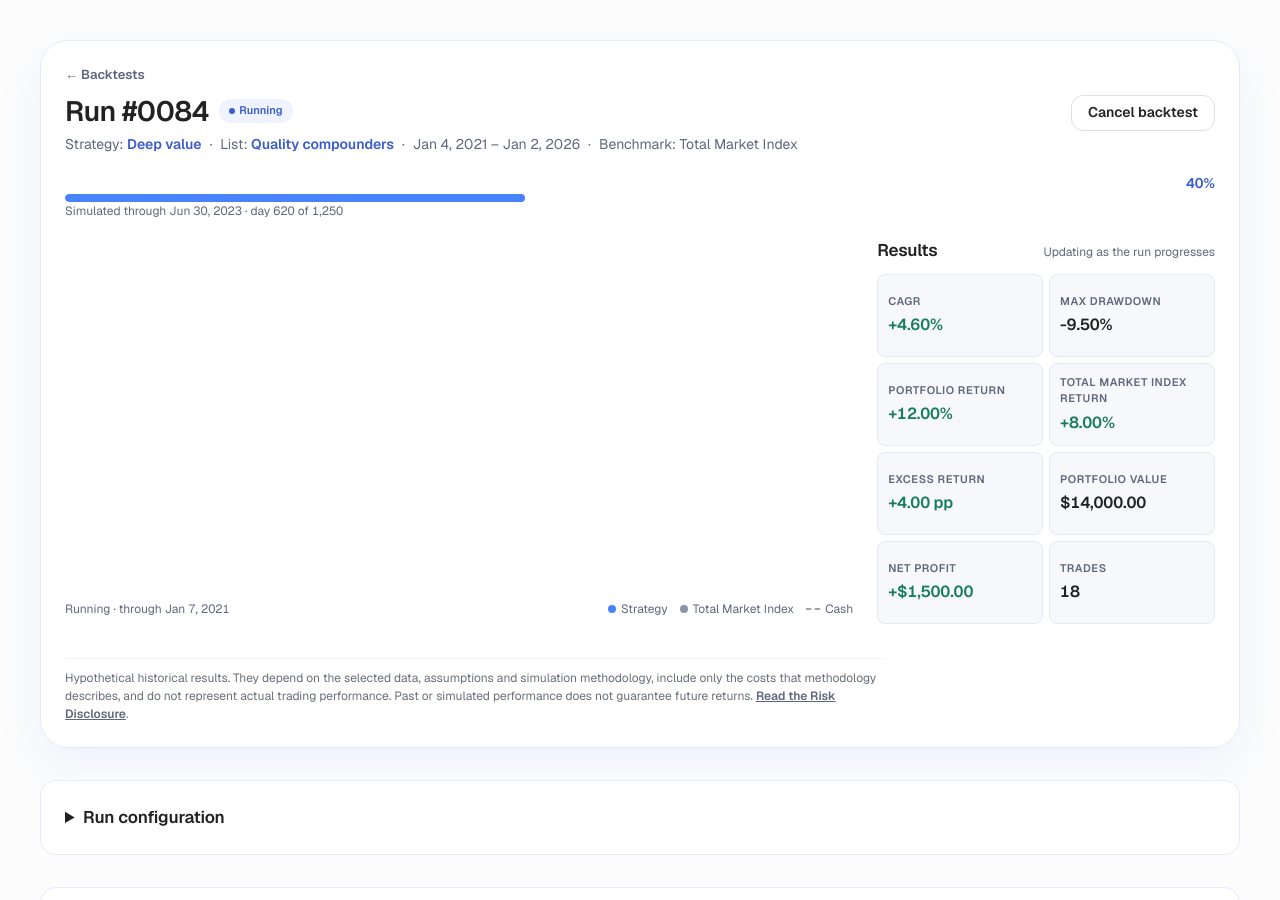
Test: BacktestRunView cancellation › says Cancelling… while an executing run waits for its worker, and cannot be asked twice
What coordinates should you click on to do the following:
click the button with test id "backtest-cancel"
I would click on:
 (1143, 112)
Its box is [1071, 94, 1215, 130].
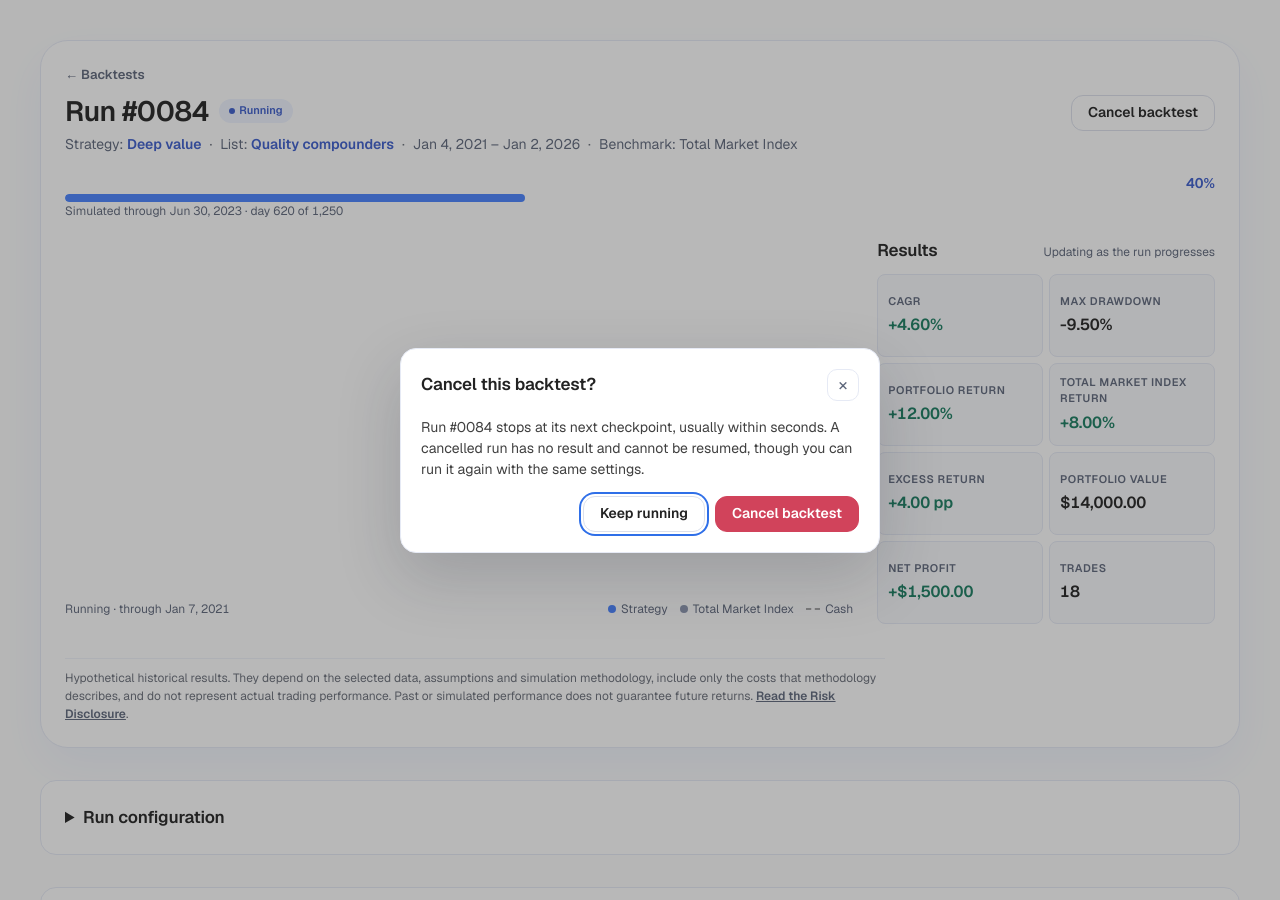
What coordinates should you click on to do the following:
click the button "Cancel backtest"
I would click on:
 (787, 514)
Its box is [715, 496, 859, 532].
Wait 1000 ms
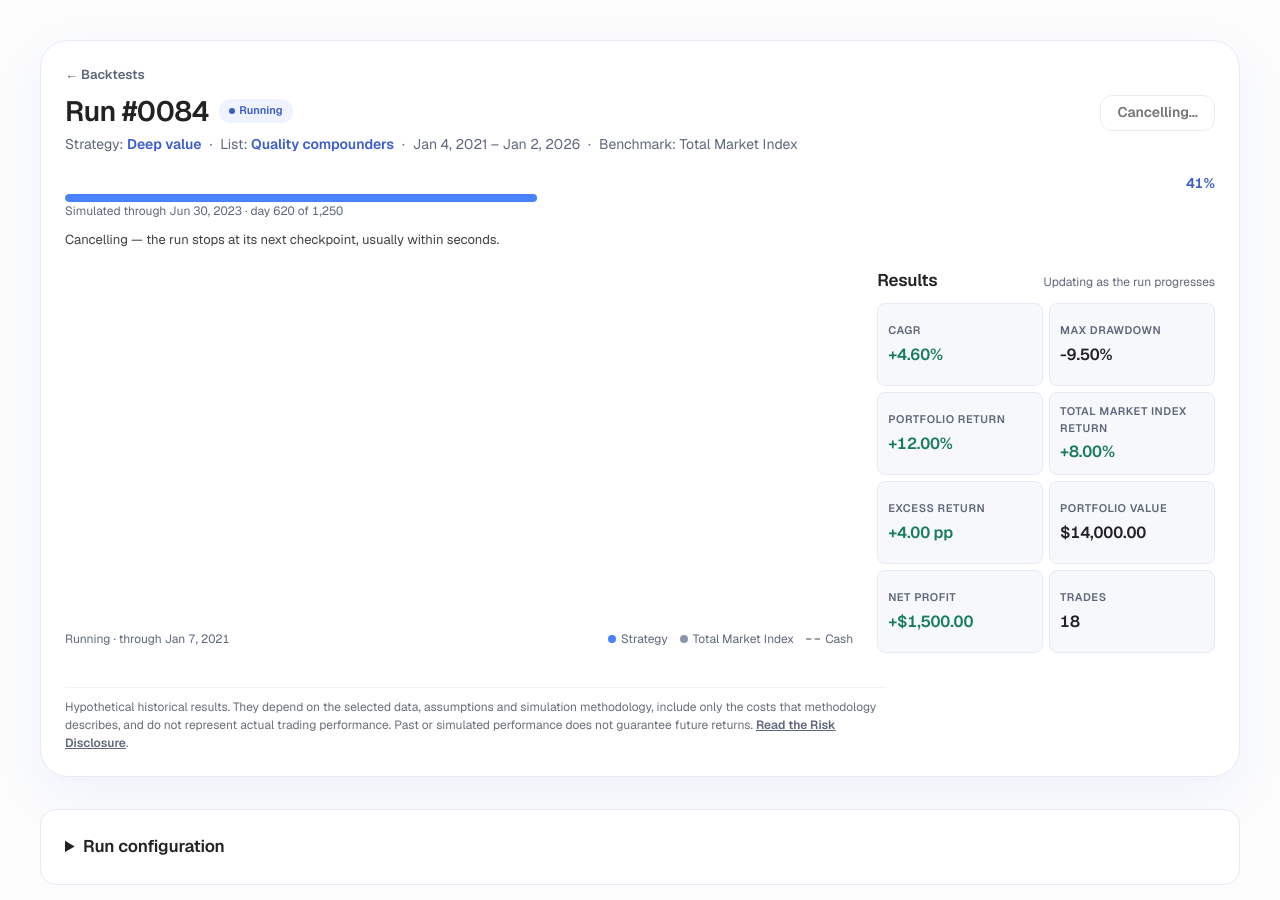
Check: the button with test id "backtest-cancel" is disabled, box [1100, 94, 1215, 130]
Check: the text with test id "backtest-cancelling" shows "stops at its next checkpoint", box [65, 231, 499, 248]
Check: the button with test id "backtest-cancel" reads "Cancelling…", box [1100, 94, 1215, 130]
